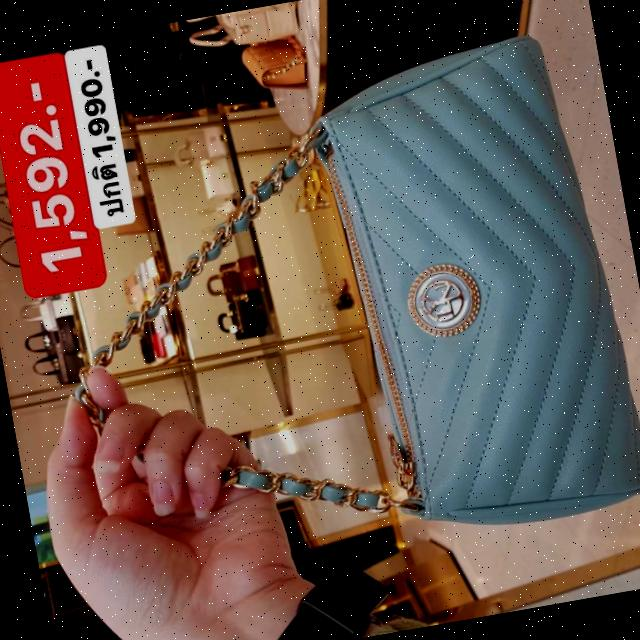Handbag: (249, 22, 640, 556)
